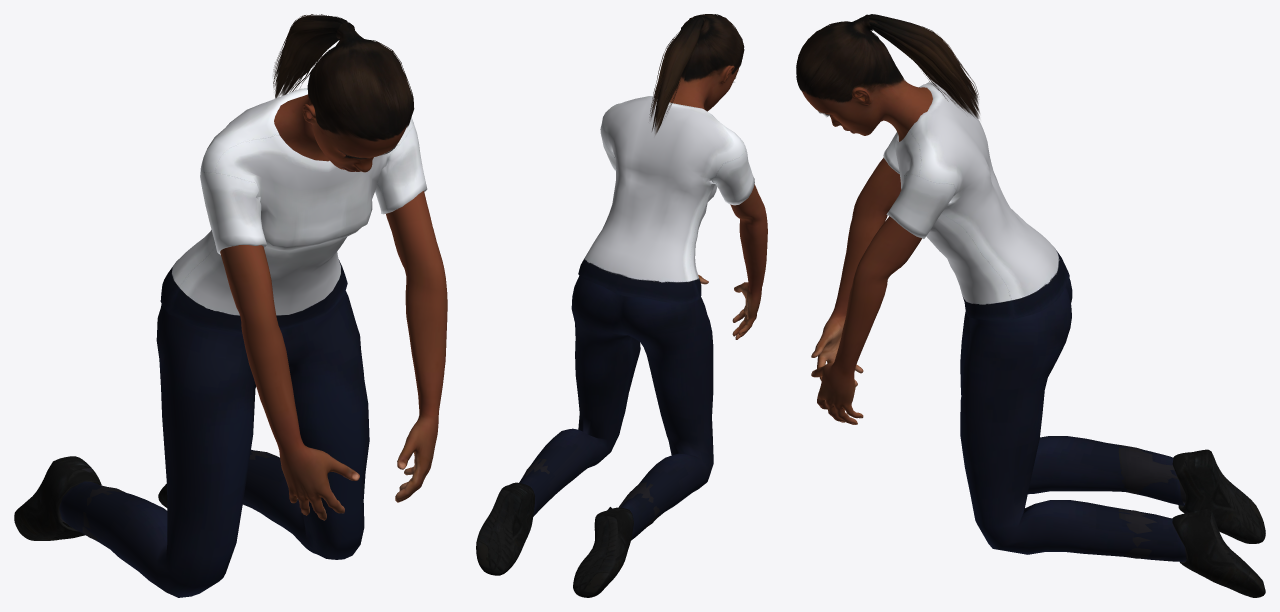
Rendered from g4_kneel.glb.
The picture shows the model from 3 angles, left to right: view 1: azimuth 30°, elevation 25°; view 2: azimuth 150°, elevation 25°; view 3: azimuth 270°, elevation 25°; orthographic projection. The views are drawn at different scales.
Visible parts, largest first — view 1: g4.female_casualsuit01, g4, g4.ponytail01, g4.shoes02; view 2: g4.female_casualsuit01, g4.shoes02, g4.ponytail01, g4; view 3: g4.female_casualsuit01, g4, g4.shoes02, g4.ponytail01.
Boxes of the visible parts, <box> form: g4.female_casualsuit01: <box>59,88,427,597</box>; g4: <box>220,94,447,520</box>; g4.ponytail01: <box>273,14,414,141</box>; g4.shoes02: <box>14,450,279,540</box>; g4.female_casualsuit01: <box>519,96,754,540</box>; g4.shoes02: <box>476,458,660,597</box>; g4.ponytail01: <box>649,14,744,134</box>; g4: <box>669,43,767,339</box>; g4.female_casualsuit01: <box>883,82,1186,561</box>; g4: <box>802,41,932,424</box>; g4.shoes02: <box>1118,445,1265,597</box>; g4.ponytail01: <box>796,14,979,118</box>.
Size of the model in its own units: 0.3902 by 1.19 by 0.9162.
7 materials, 7 textured.
